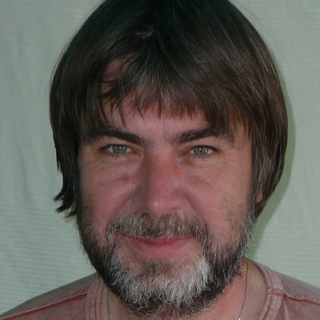eye: (176, 139, 223, 163), (97, 135, 142, 160)
